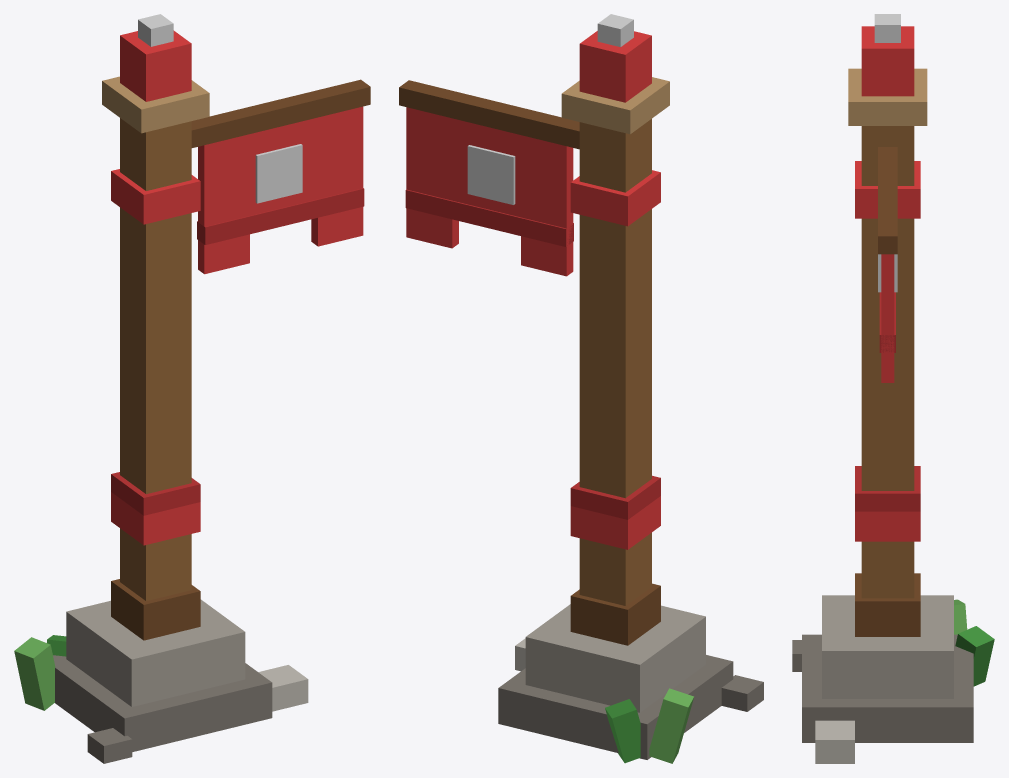
Rendered from territory-marker-robin.glb.
3 views of the same model, side by side, from view 1: azimuth 30°, elevation 25°; view 2: azimuth 150°, elevation 25°; view 3: azimuth 270°, elevation 25° (orthographic).
Parts seen in each view (by area): view 1: marker-post, banner; view 2: marker-post, banner; view 3: marker-post, banner.
Boxes of the visible parts, x1,y1,x2,y2 form: marker-post: (14, 14, 308, 763); banner: (191, 79, 370, 274); marker-post: (498, 14, 763, 763); banner: (399, 80, 579, 276); marker-post: (792, 14, 994, 763); banner: (878, 147, 897, 382).
Bounding box in the file's own units: 0.5581 × 1.15 × 0.3071.
